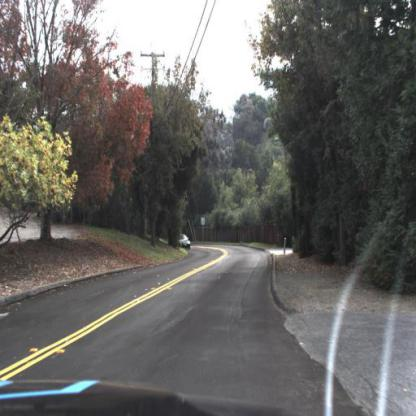car: (175, 230, 197, 253)
